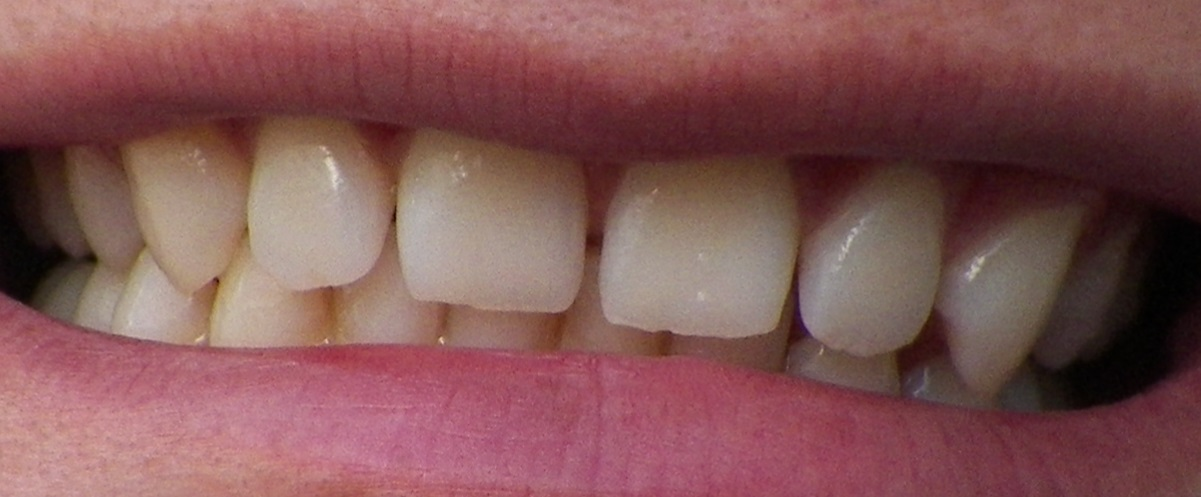boca: (18, 131, 1160, 399)
